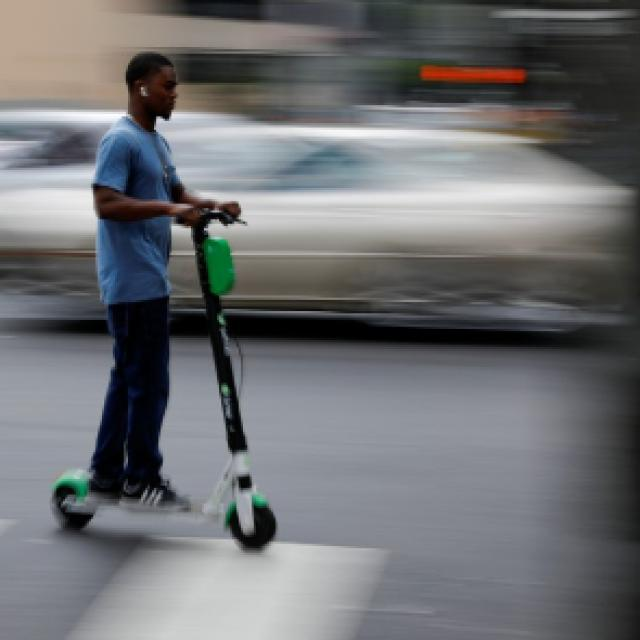non-helmet: (42, 35, 282, 568)
